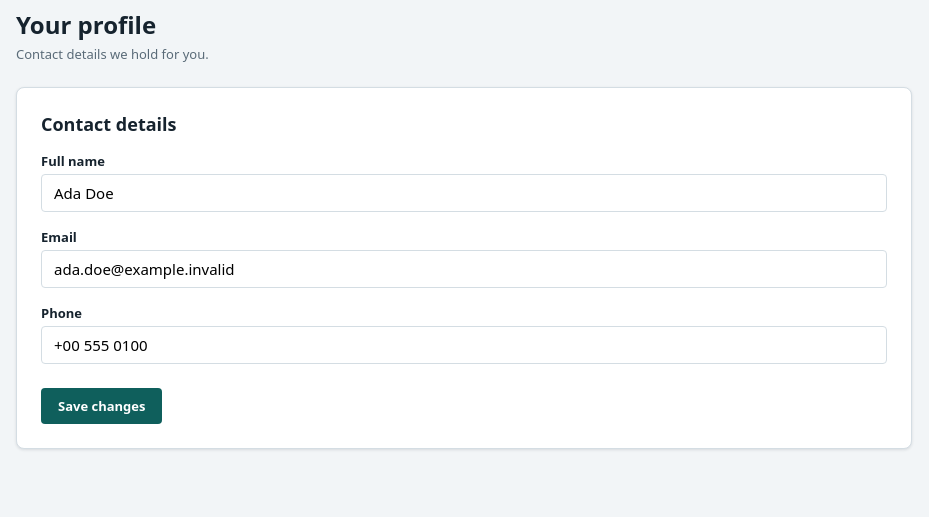
Test: ProfilePage › saves through the port with the expected payload
Replace the text in the field labelled "Full name" with "Ada Q. Doe": (464, 193) x1=41 y1=174 x2=887 y2=212
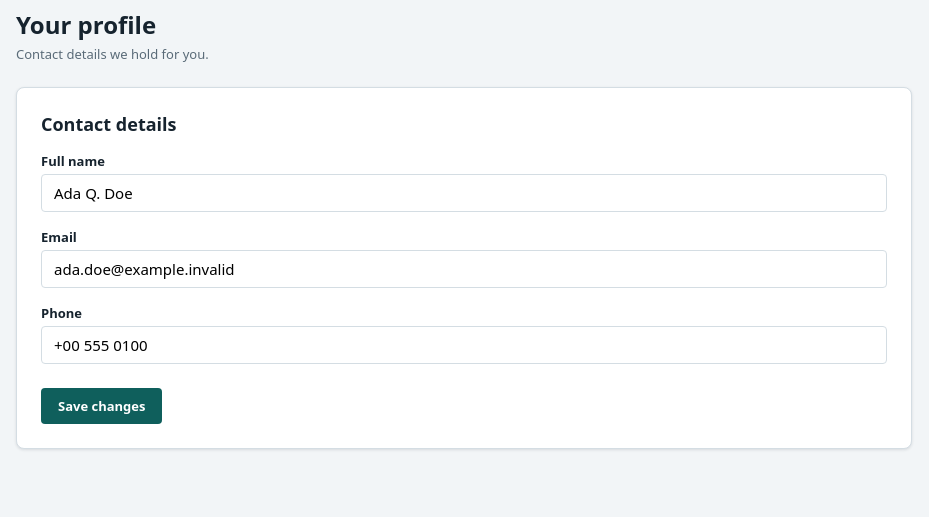
Click the button "Save changes": (102, 406) x1=41 y1=388 x2=162 y2=424
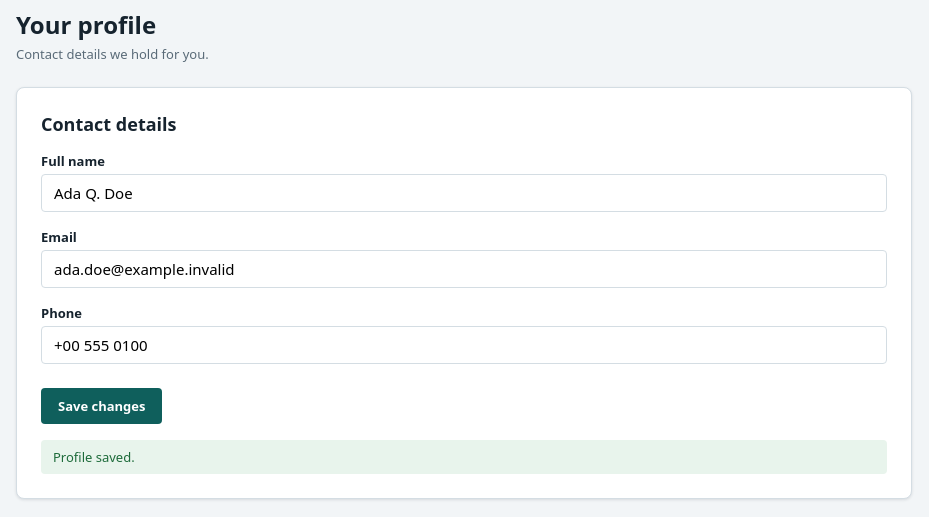
Expected: the text "Profile saved." is shown, x1=41 y1=440 x2=887 y2=474
